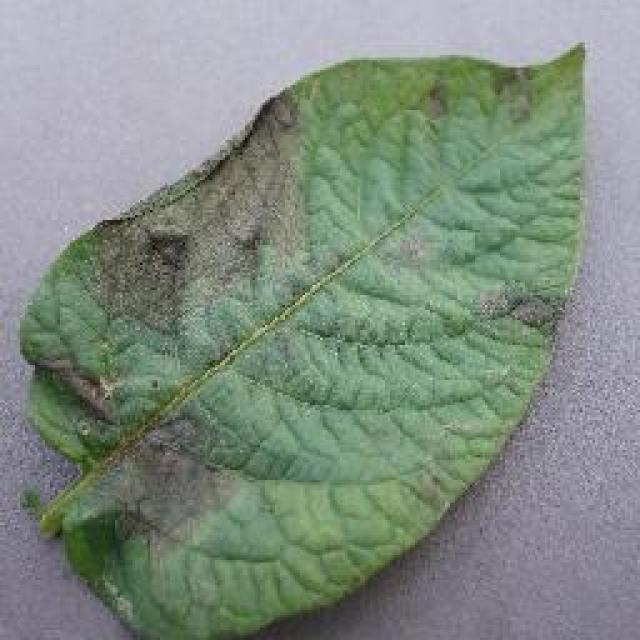late_blight: (12, 35, 592, 637)
